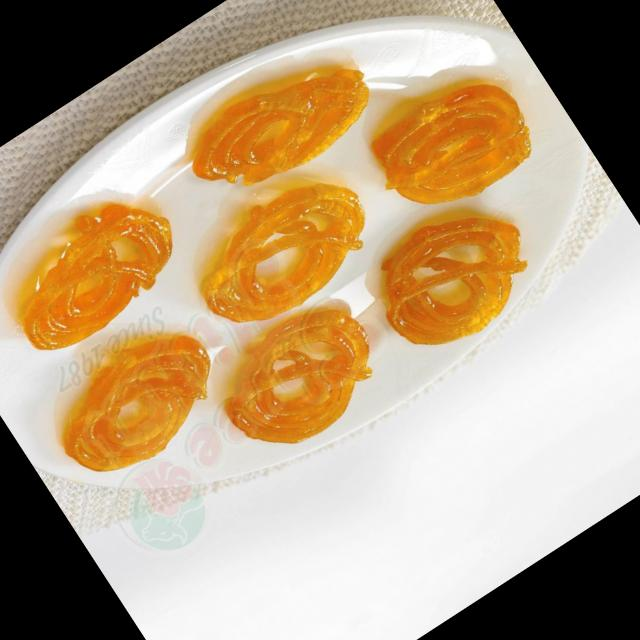jalebi: (0, 165, 209, 377), (169, 25, 386, 216), (180, 159, 392, 350), (350, 60, 554, 248), (353, 189, 548, 377), (44, 320, 229, 493), (224, 306, 393, 466)
